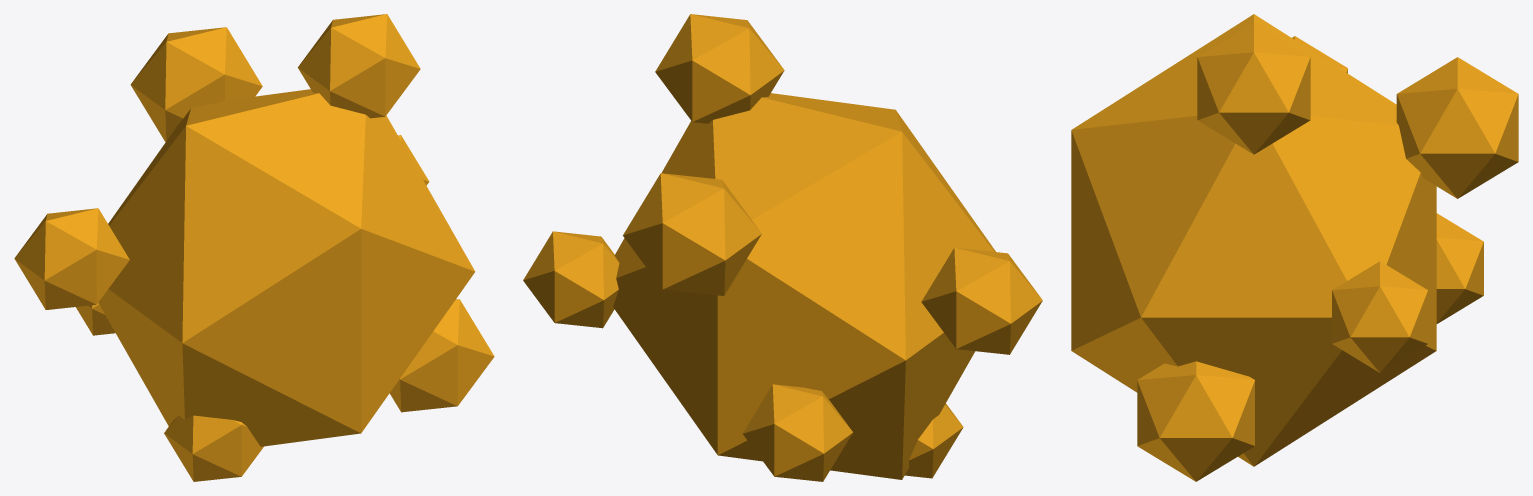
File: bolita-ambar.glb
3 renders of one model, left to right at view 1: azimuth 30°, elevation 25°; view 2: azimuth 150°, elevation 25°; view 3: azimuth 270°, elevation 25°, orthographic. The views are drawn at different scales.
Visible parts, largest first — view 1: bolita-gemelo; view 2: bolita-gemelo; view 3: bolita-gemelo.
Part boxes in pixels (left/top/right/bottom): bolita-gemelo: left=14, top=14, right=494, bottom=481; bolita-gemelo: left=523, top=14, right=1042, bottom=481; bolita-gemelo: left=1071, top=14, right=1518, bottom=481.
Size of the model in its own units: 0.3709 by 0.3355 by 0.3125.
